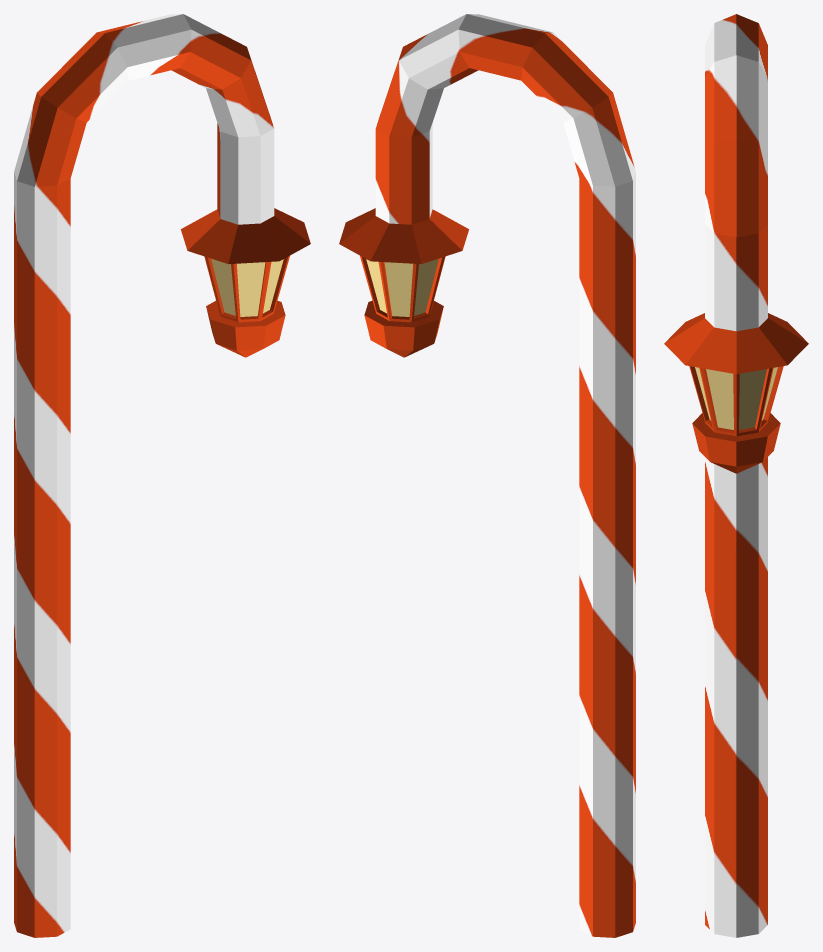
The model's file is Faro.fbx.
3 views of the same model, side by side, from view 1: azimuth 30°, elevation 25°; view 2: azimuth 150°, elevation 25°; view 3: azimuth 270°, elevation 25° (orthographic). The views are drawn at different scales.
Parts seen in each view (by area): view 1: Candy_street_lamp; view 2: Candy_street_lamp; view 3: Candy_street_lamp.
Part boxes in pixels (x1,y1,x2,y2): Candy_street_lamp: (14, 14, 310, 937); Candy_street_lamp: (339, 14, 635, 937); Candy_street_lamp: (664, 14, 808, 937).
Bounding box in the file's own units: 8.99 × 26.24 × 3.65.
Materials: 1 (1 with a texture image).
